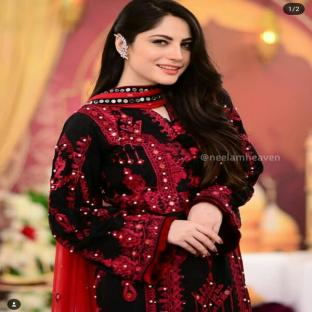Human: (48, 0, 263, 312)
